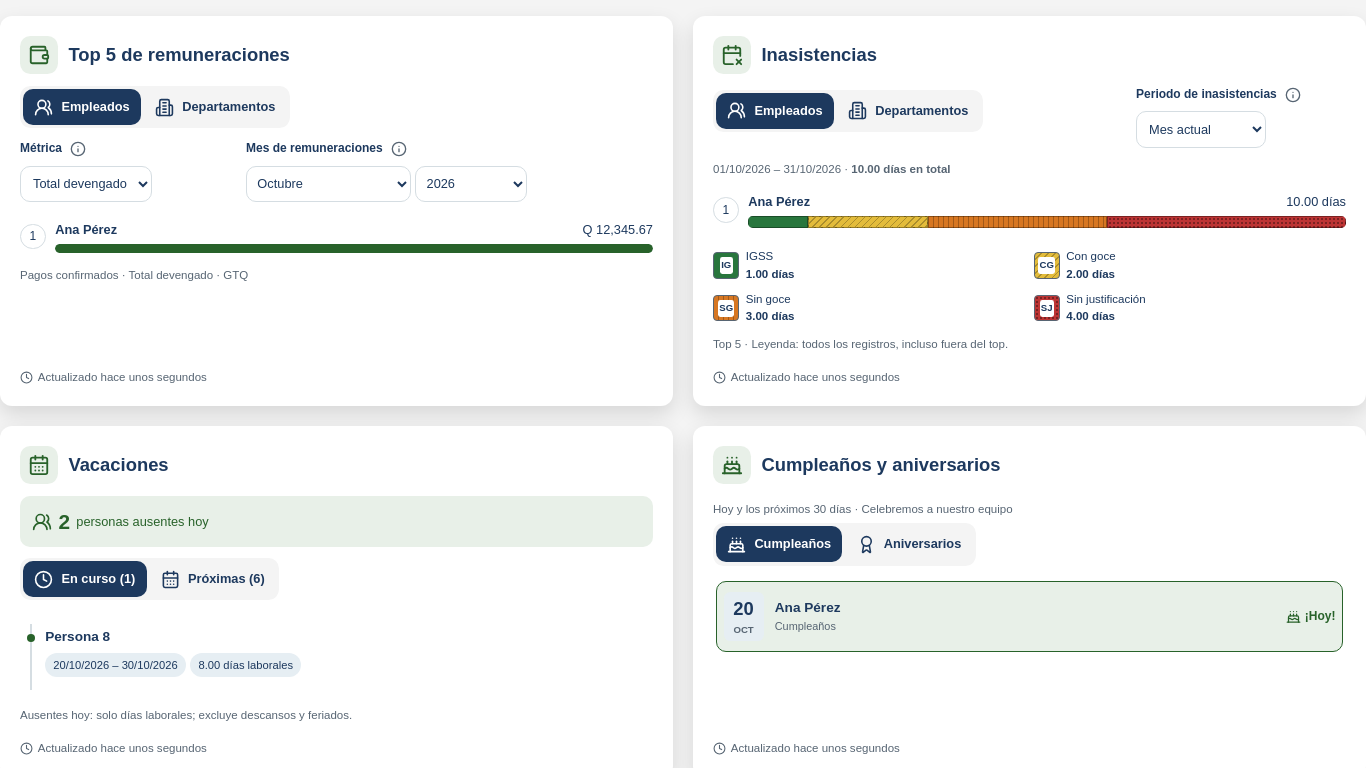
Test: R2-9: primera vista de RRHH › resalta cumpleaños de hoy, no publica edad y muestra años solo en aniversarios
This screenshot has width=1366, height=768.
Expected: the text "¡Hoy!" is shown, [1286, 607, 1336, 625]
Expected: the list item with class "rh-celebracion-hoy" has style "transform: none", [716, 581, 1343, 652]
Click the tab "Aniversarios".
click(909, 544)  # box [846, 526, 972, 562]
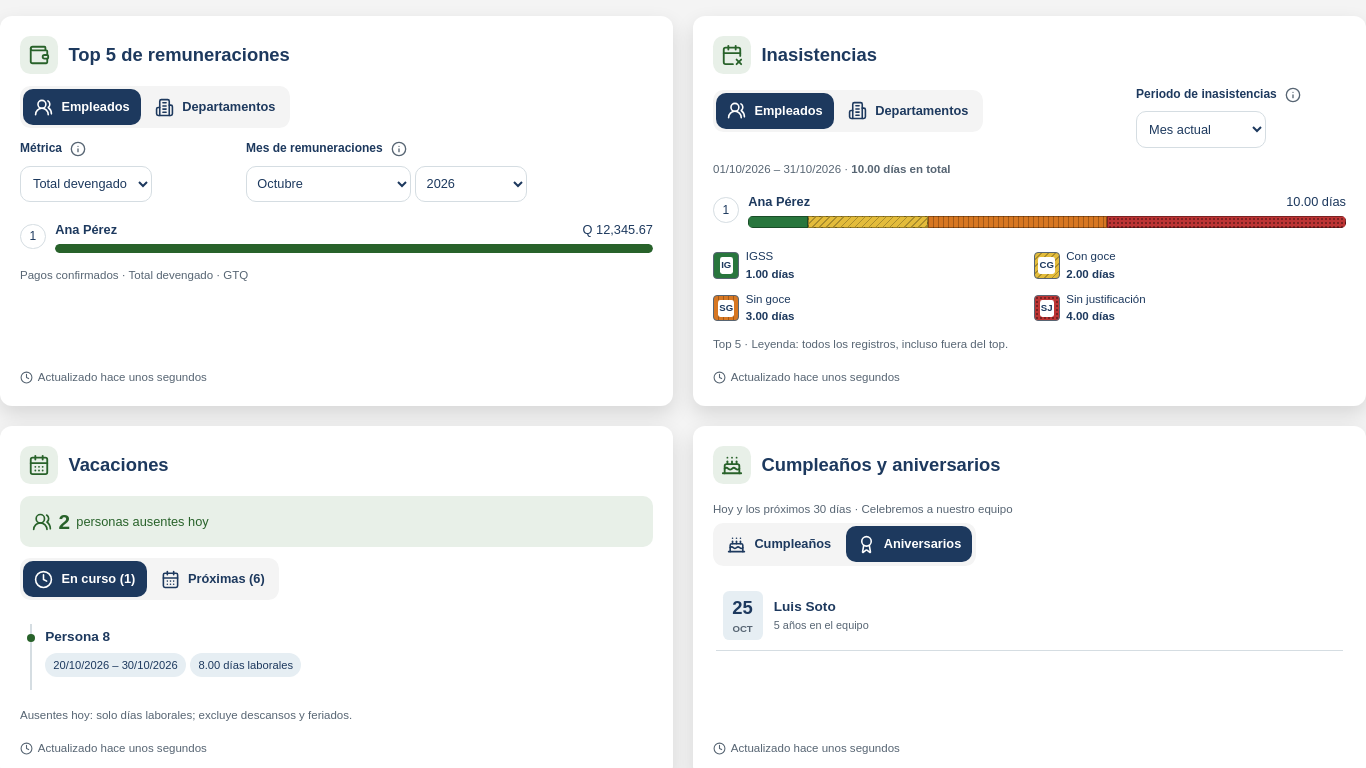
Now the text "5 años en el equipo" is shown, box [774, 619, 869, 631]
